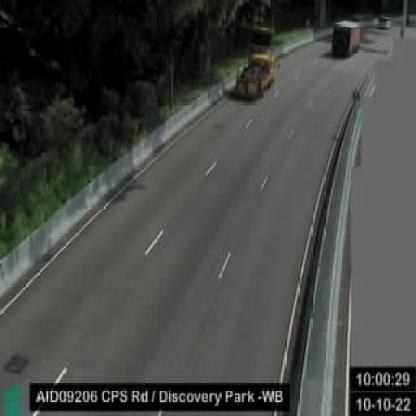Truck: (234, 46, 276, 101), (331, 20, 363, 58)
